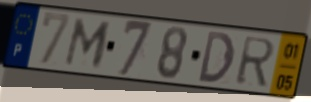7: (119, 18, 155, 79), (39, 10, 74, 69)
8: (155, 25, 190, 82)
D: (197, 29, 236, 85)
M: (62, 16, 114, 69)
R: (233, 35, 277, 89)
